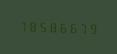eight: (27, 18, 36, 33), (47, 19, 56, 33)
five: (37, 19, 46, 33)
nine: (87, 21, 96, 35)
seven: (17, 18, 26, 32), (77, 20, 86, 34)
six: (57, 19, 66, 34), (67, 20, 76, 34)
